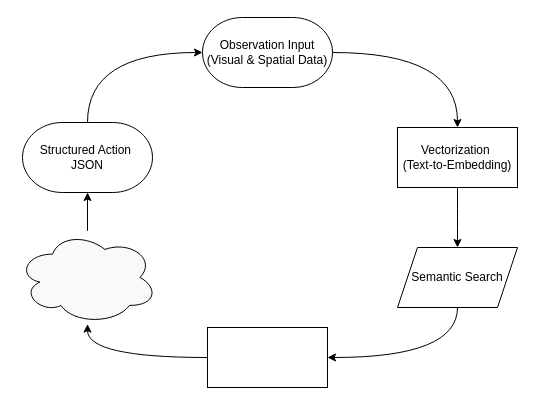
Image size: 535x405. Some labels were removed from this diagram. The centre of each missing label's shape, as x and y in pixels:
"LLM Inference (Decision Making)" goes at [87,277].
"Prompt Engineering (Context Assembly)" goes at [267,357].
